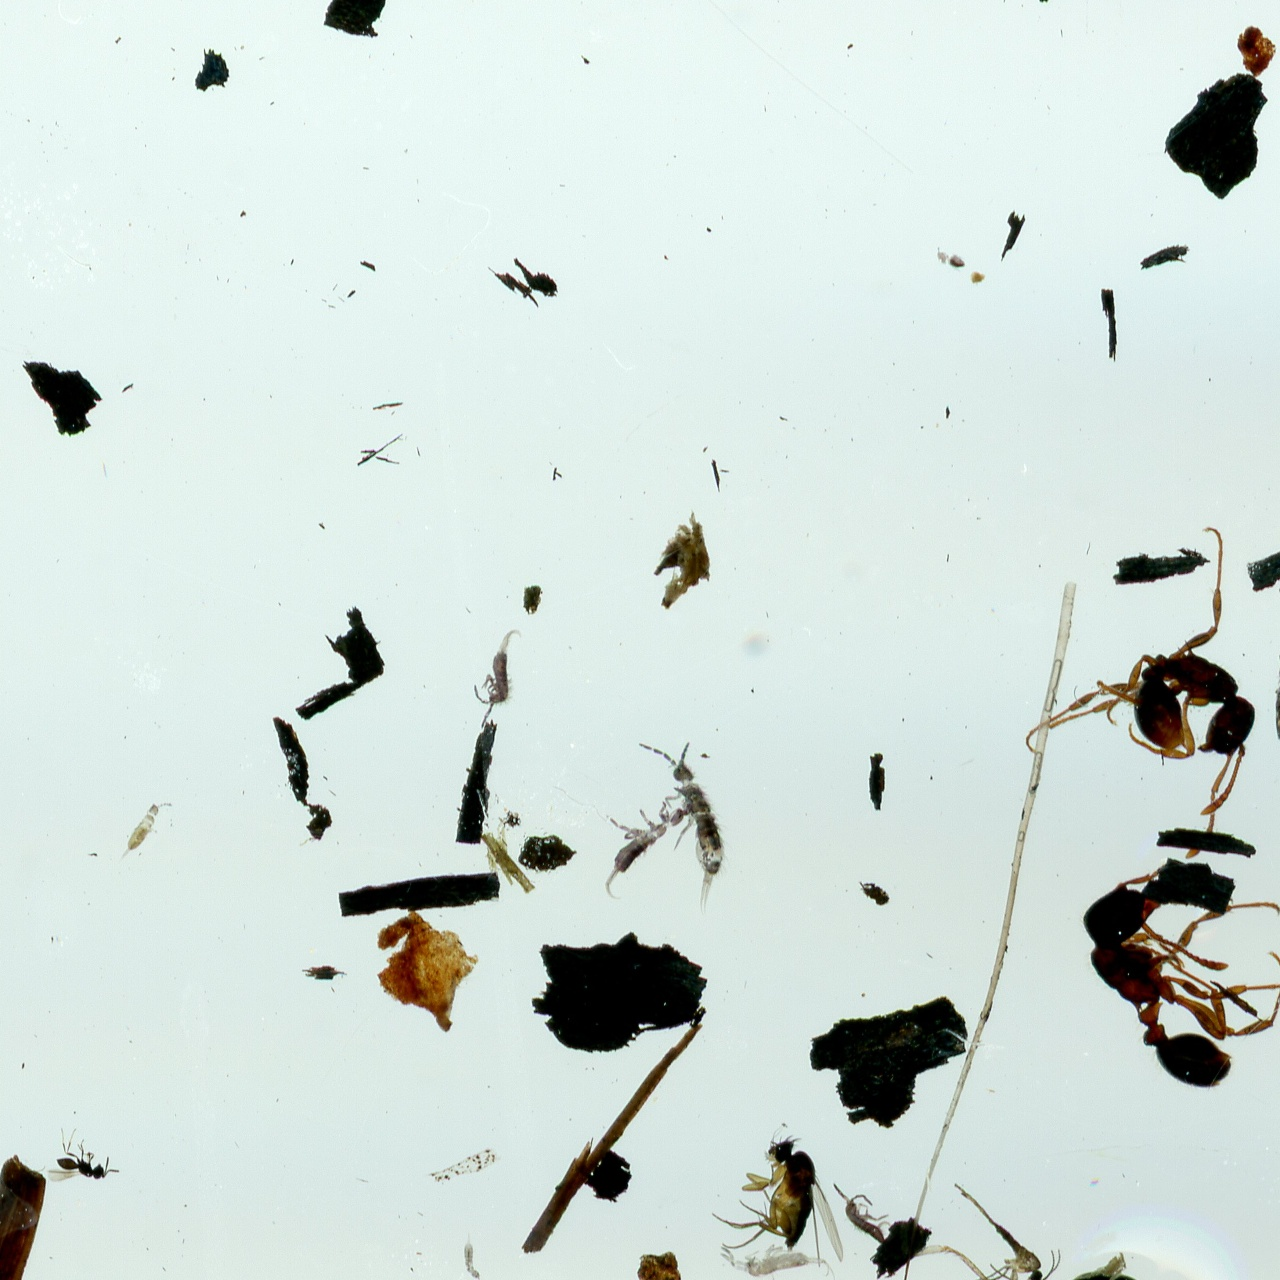arthropod: (1024, 525, 1257, 835), (1077, 865, 1280, 1092), (708, 1118, 846, 1271), (638, 723, 744, 918), (573, 779, 704, 904), (951, 1178, 1062, 1280), (821, 1164, 907, 1257), (472, 627, 524, 731), (113, 791, 176, 873), (719, 1239, 840, 1280), (40, 1126, 121, 1184), (461, 1228, 484, 1280), (1272, 652, 1280, 751)
